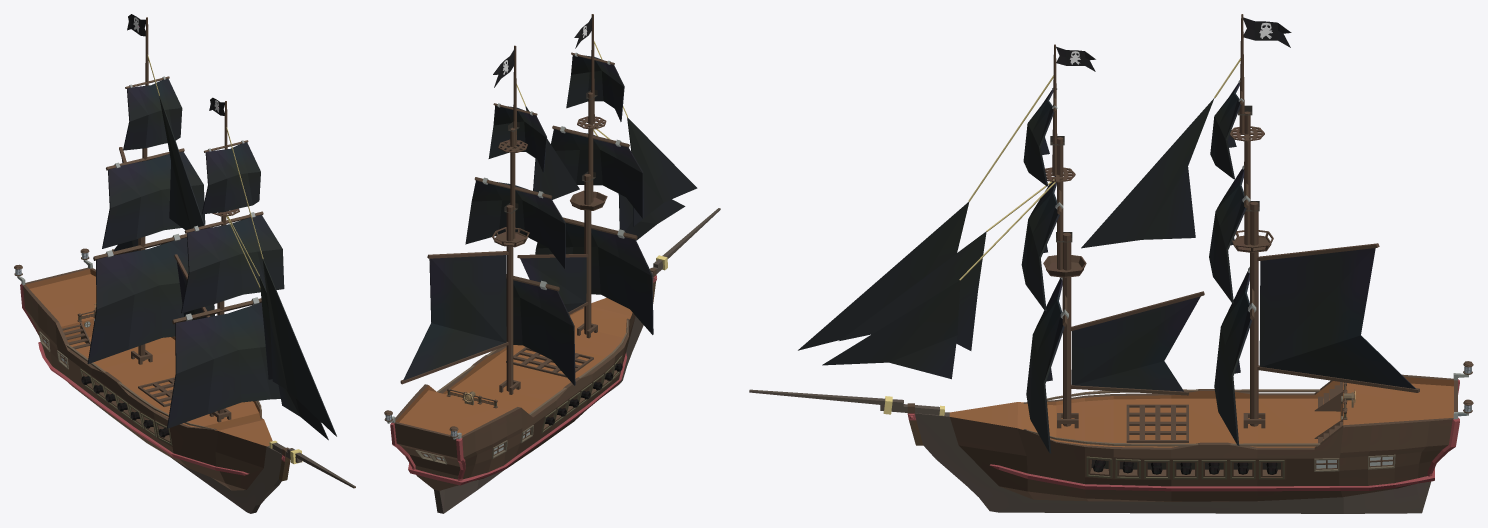
The picture shows the model from 3 angles, left to right: view 1: azimuth 30°, elevation 25°; view 2: azimuth 150°, elevation 25°; view 3: azimuth 270°, elevation 25°; orthographic projection. The views are drawn at different scales.
Parts seen in each view (by area): view 1: Sail, Body, Mast; view 2: Sail, Body, Mast; view 3: Body, Sail, Mast.
Boxes of the visible parts, x1,y1,x2,y2 form: Sail: (87,14,336,440); Body: (14,248,355,513); Mast: (93,17,263,419); Sail: (403,16,697,385); Body: (384,208,720,513); Mast: (400,14,637,391); Body: (749,361,1473,513); Sail: (798,17,1415,453); Mast: (959,14,1419,426).
Bounding box in the file's own units: 3.02 × 9.54 × 12.6.
Materials: 1 (1 with a texture image).
